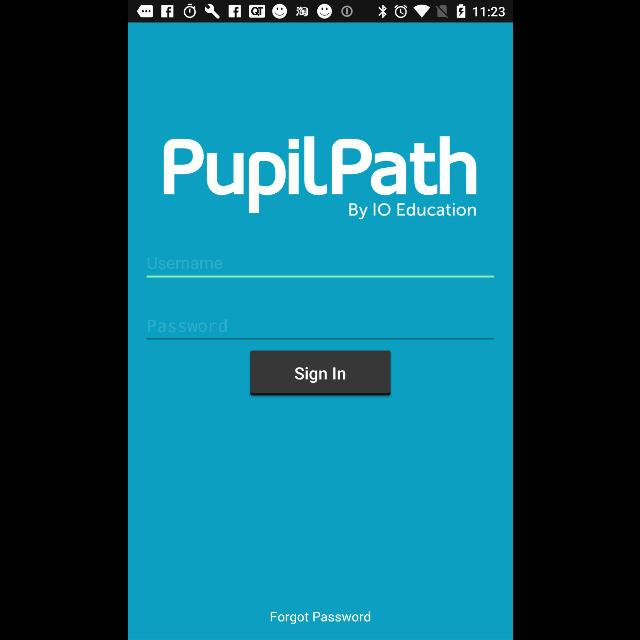image: (162, 136, 476, 220)
input: (146, 256, 494, 278), (146, 318, 494, 339)
text: (270, 612, 370, 624), (146, 256, 222, 270), (148, 320, 226, 332)
textbutton: (250, 350, 390, 396)
uppertaskbar: (128, 1, 512, 23)
